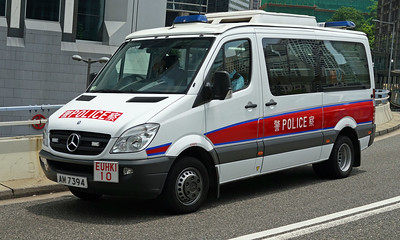van: (37, 9, 376, 213)
